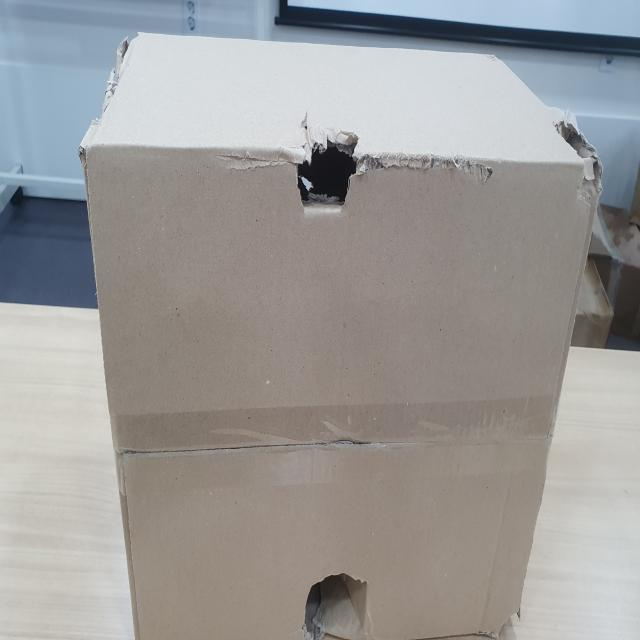hole: (284, 118, 364, 224), (296, 569, 374, 639), (555, 124, 603, 208)
